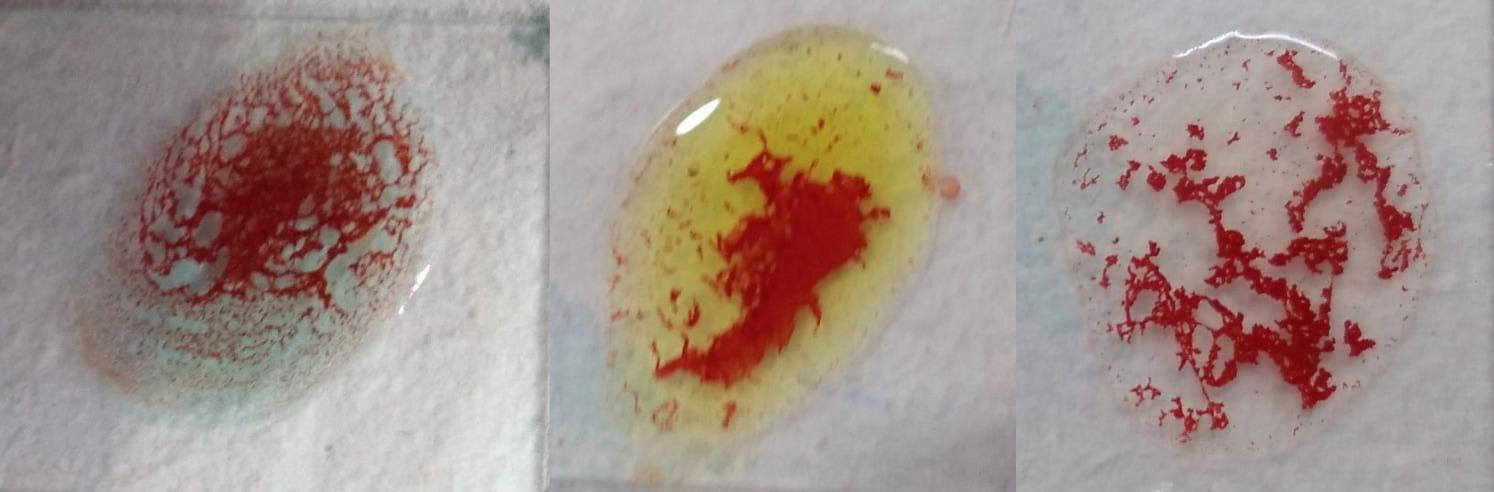A: (77, 36, 416, 427)
B: (601, 17, 929, 429)
D: (1057, 29, 1404, 436)
